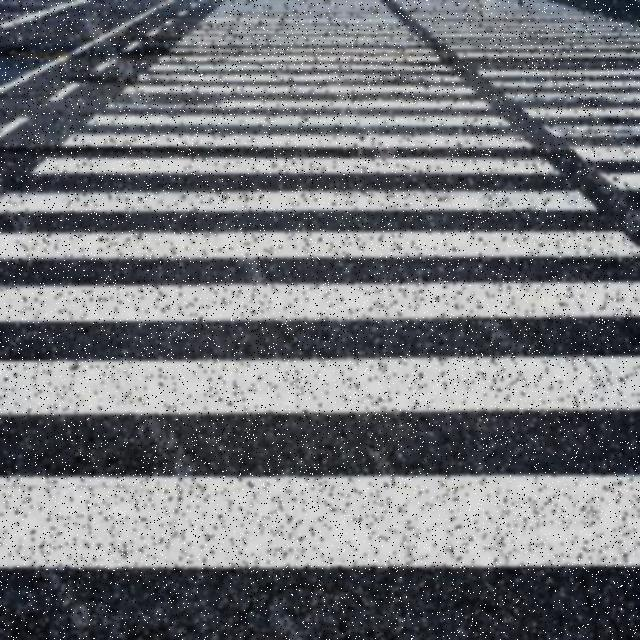Pedestrian crosswalk: (2, 0, 640, 597)
